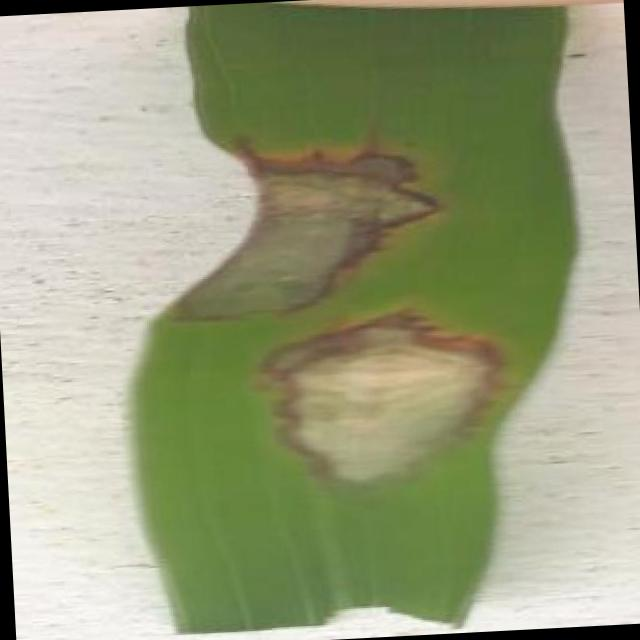Rice_Blast: (246, 292, 564, 522), (147, 118, 440, 342)
